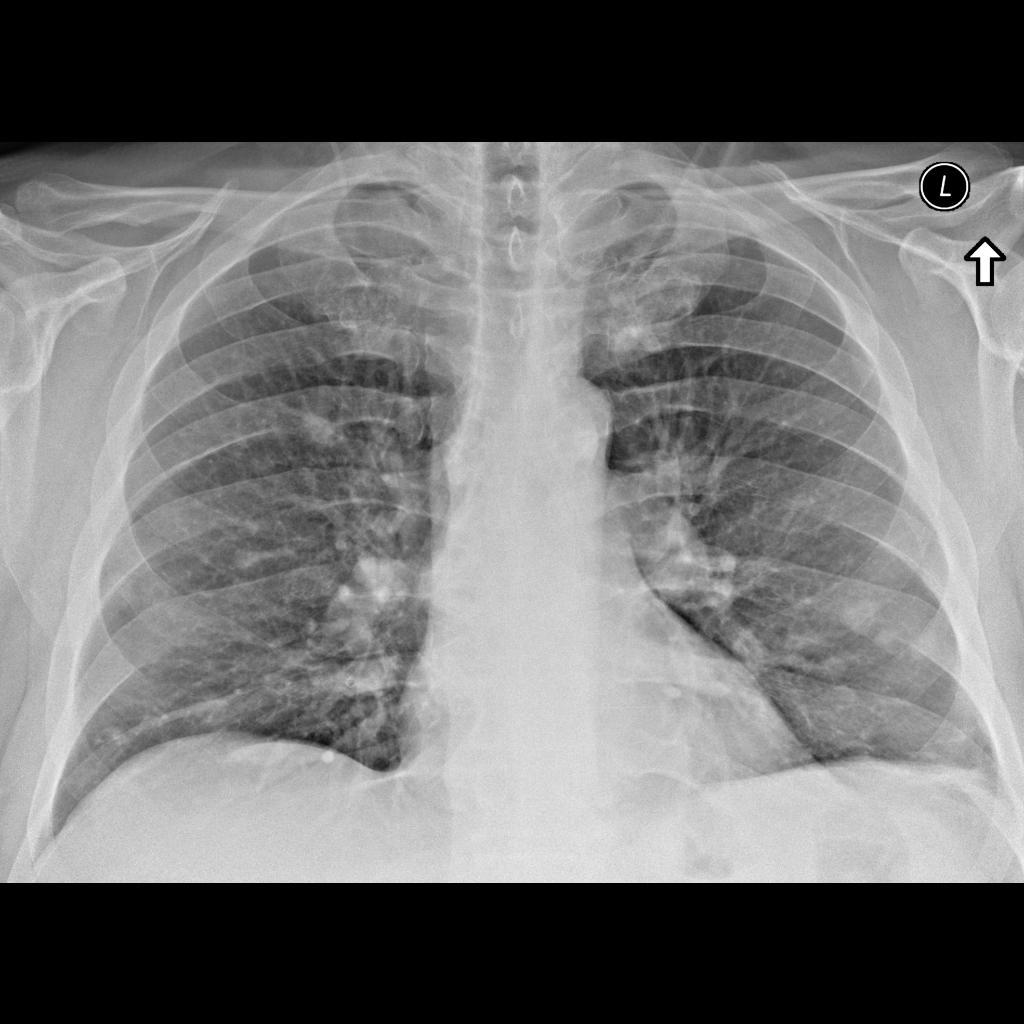Nodule: (847, 593, 886, 639), (301, 408, 339, 453)
